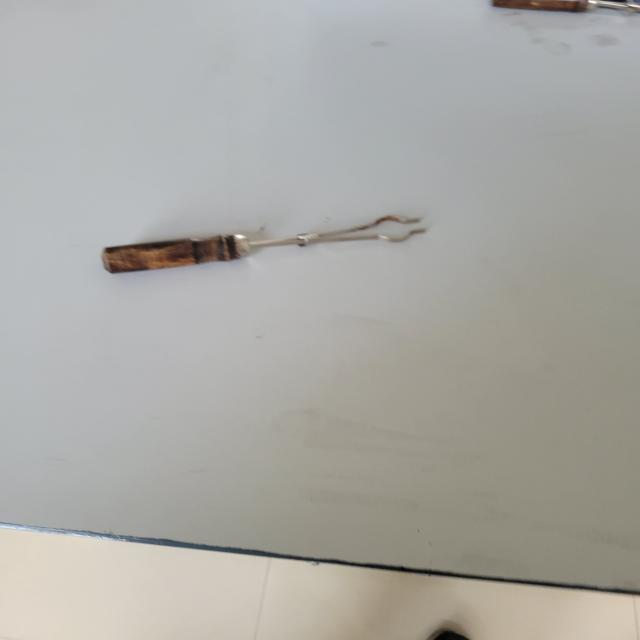TestTube_Holder: (74, 181, 455, 299)
